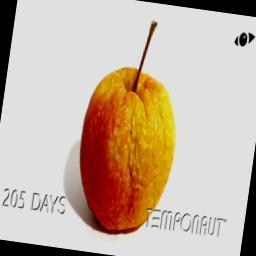Apple Overripe: (67, 0, 198, 241)
